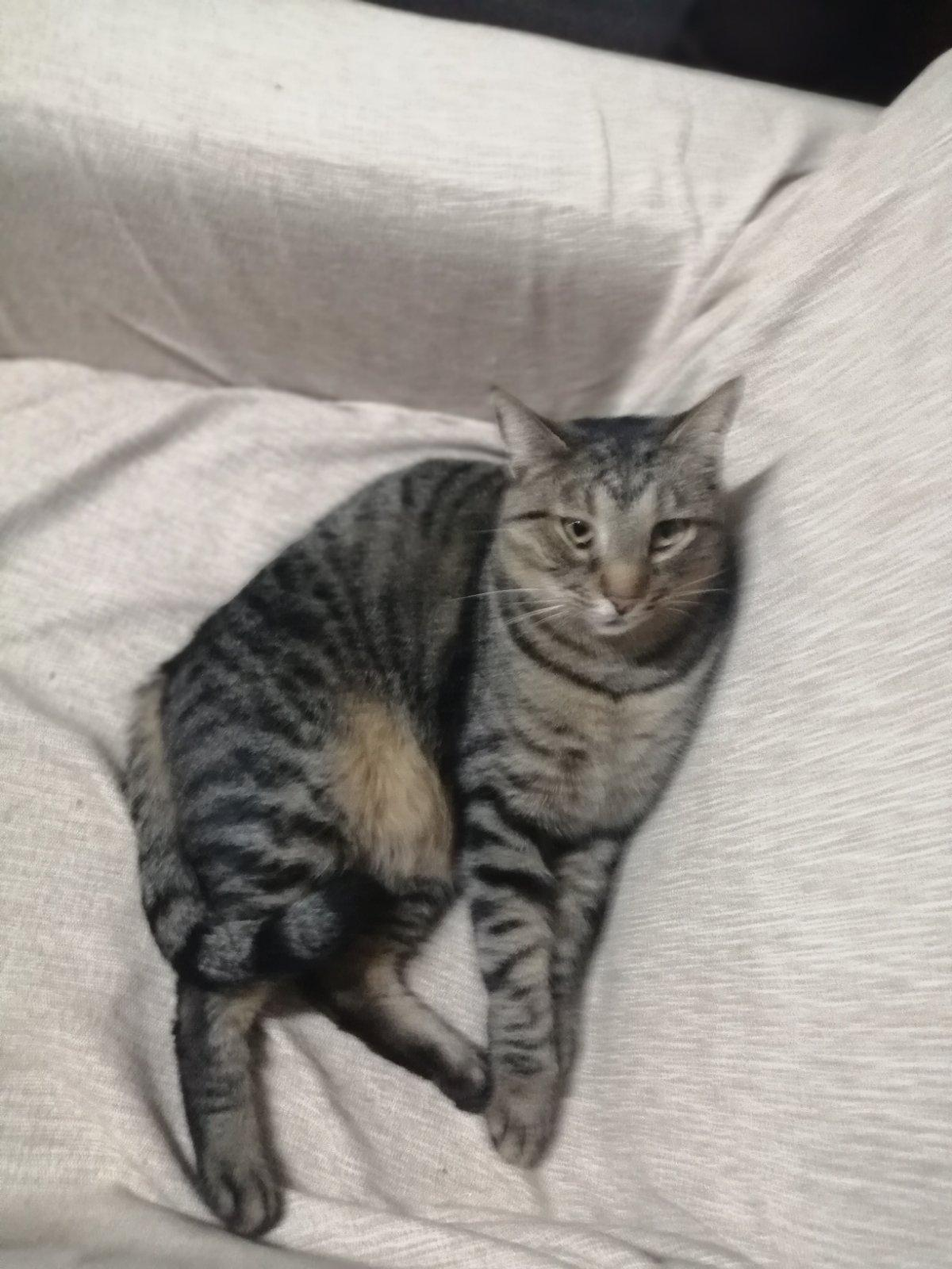macka: (125, 377, 751, 1238)
